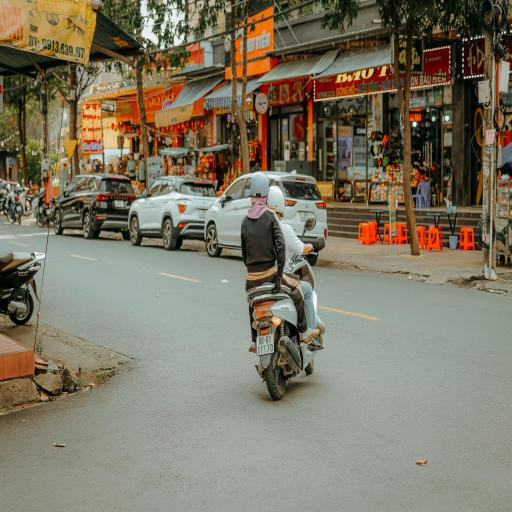place: (253, 334, 276, 356)
